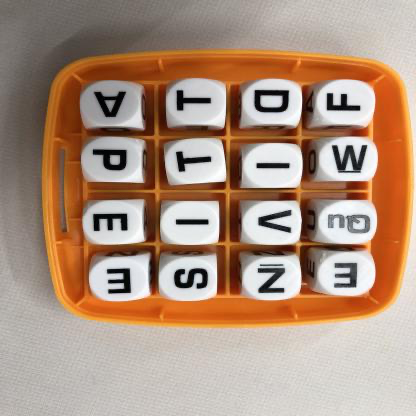a: (83, 82, 146, 127)
d: (242, 80, 304, 125)
e: (85, 202, 146, 246), (91, 257, 149, 301), (319, 252, 374, 296)
f: (317, 82, 375, 126)
i: (160, 201, 220, 245), (244, 144, 302, 187)
p: (81, 137, 142, 182)
qu: (319, 200, 376, 245)
s: (161, 256, 218, 299)
t: (165, 81, 228, 123), (168, 141, 224, 183)
v: (242, 201, 300, 245)
w: (321, 137, 377, 182)
z: (242, 256, 301, 299)
